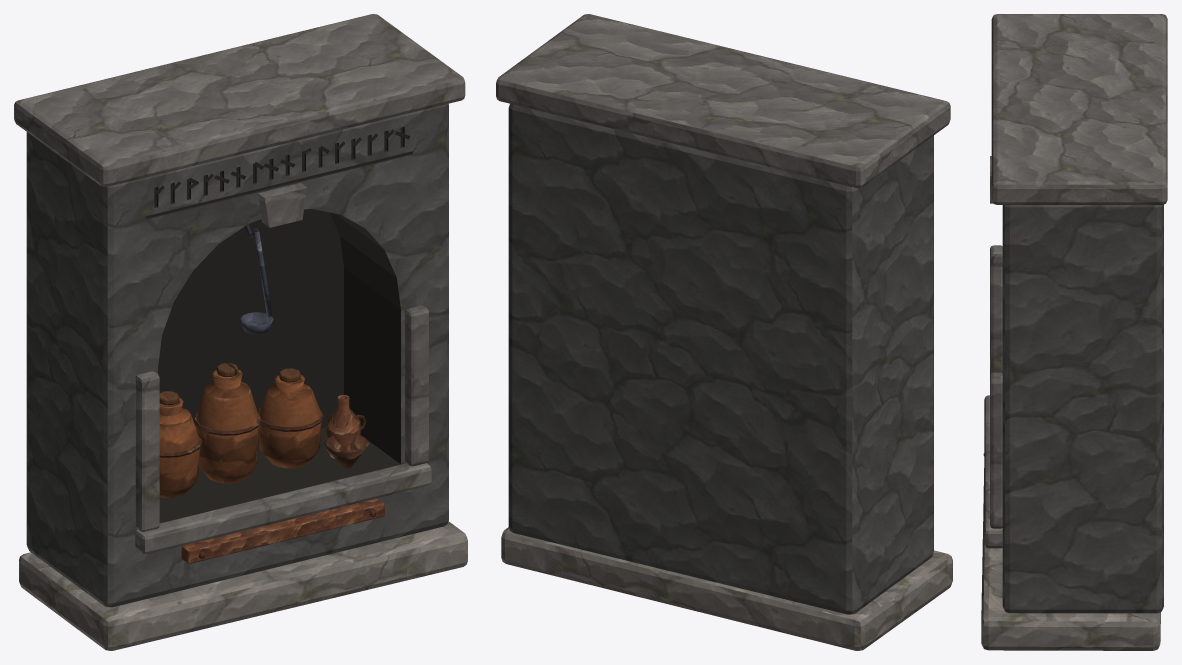
Rendered from vo_oil_niche.glb.
The picture shows the model from 3 angles, left to right: view 1: azimuth 30°, elevation 25°; view 2: azimuth 150°, elevation 25°; view 3: azimuth 270°, elevation 25°; orthographic projection. The views are drawn at different scales.
Parts seen in each view (by area): view 1: model; view 2: model; view 3: model.
Boxes of the visible parts, x1=… form: model: x1=14, y1=14, x2=467, y2=650; model: x1=496, y1=14, x2=952, y2=650; model: x1=981, y1=14, x2=1167, y2=650.
Bounding box in the file's own units: 1.11 × 1.41 × 0.5085.
10 materials, 9 textured.
